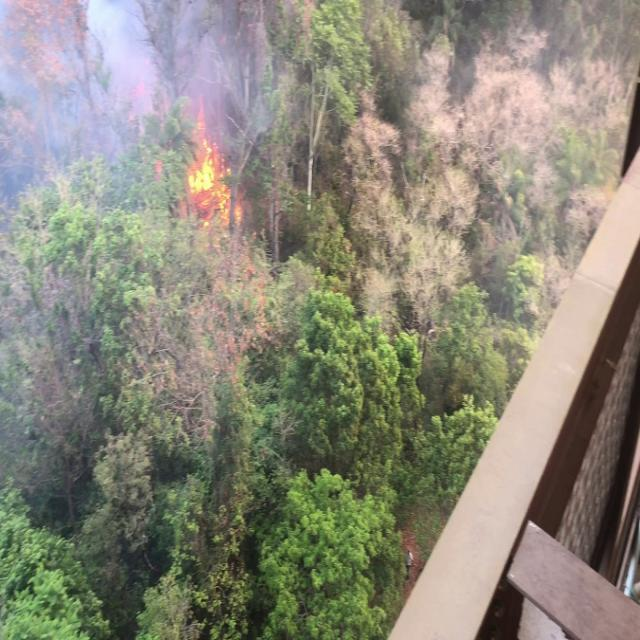Fire: (193, 166, 226, 190)
Smoke: (100, 19, 142, 109)
